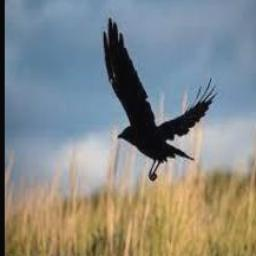Crow: (101, 17, 217, 183)
